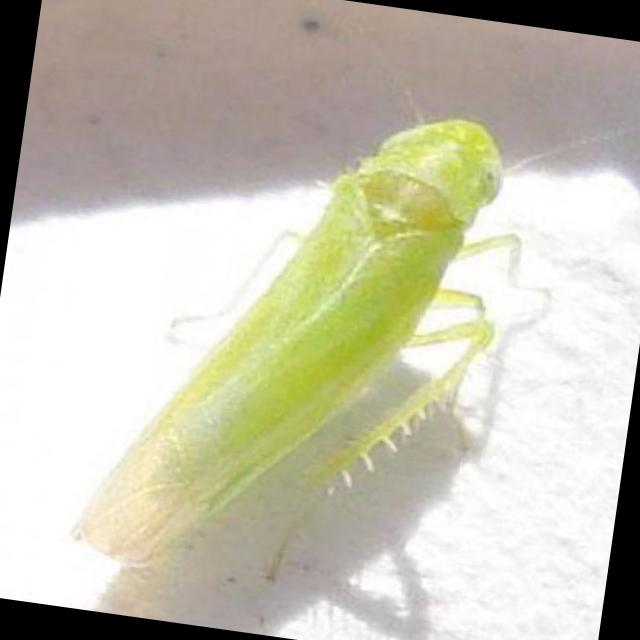green-leafhopper: (82, 74, 521, 606)
